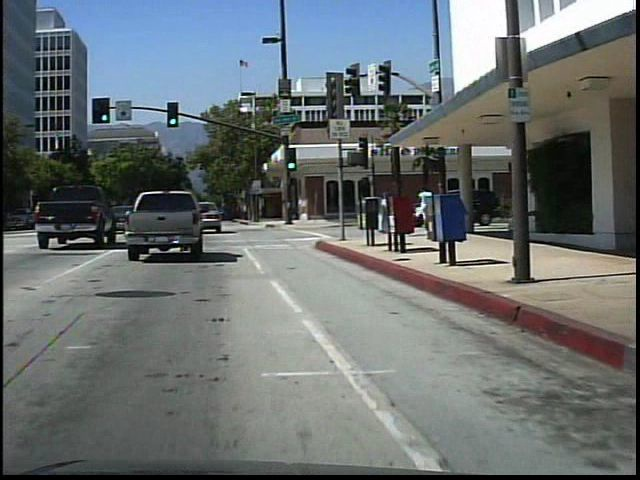person: (416, 183, 437, 236)
